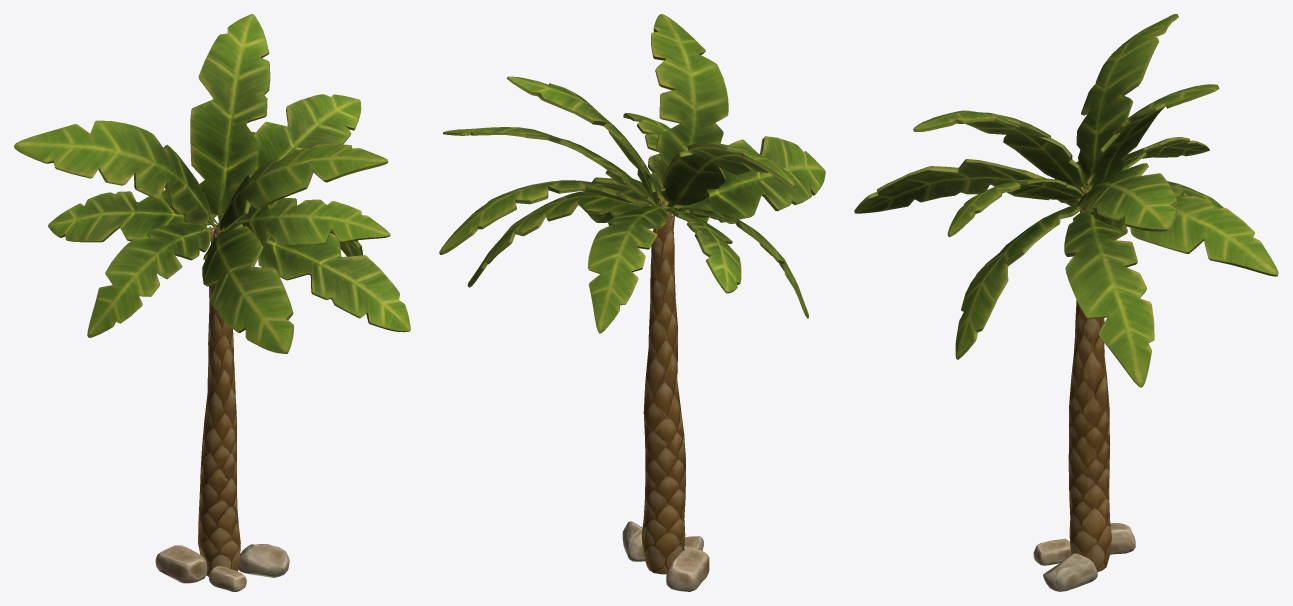
File: Palm Tree.glb
3 renders of one model, left to right at view 1: azimuth 30°, elevation 25°; view 2: azimuth 150°, elevation 25°; view 3: azimuth 270°, elevation 25°, orthographic. The views are drawn at different scales.
Visible parts, largest first — view 1: palm_tree.1; view 2: palm_tree.1; view 3: palm_tree.1.
Part boxes in pixels (bbox=[...]): palm_tree.1: bbox=[14, 14, 410, 591]; palm_tree.1: bbox=[439, 14, 825, 591]; palm_tree.1: bbox=[854, 14, 1278, 591].
Size of the model in its own units: 0.1048 by 0.1445 by 0.1058.
Materials: 1 (1 with a texture image).
